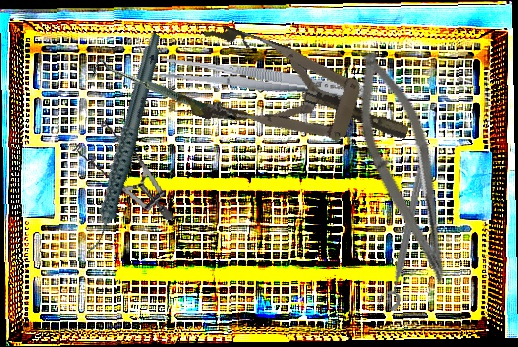Dressing Forceps: (159, 53, 370, 107)
Fixation Ring: (375, 164, 429, 313)
Handpiece: (44, 31, 204, 257)
Hook Surgical: (86, 16, 237, 173)
Micro Scissor: (335, 45, 478, 291)
Speculum: (174, 18, 421, 180), (67, 111, 175, 236)
Tissue Forceps: (170, 98, 286, 130)
